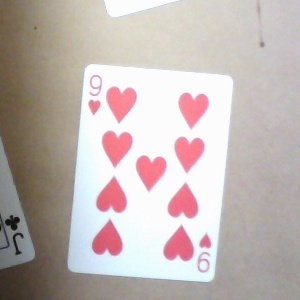card: (66, 62, 233, 283)
